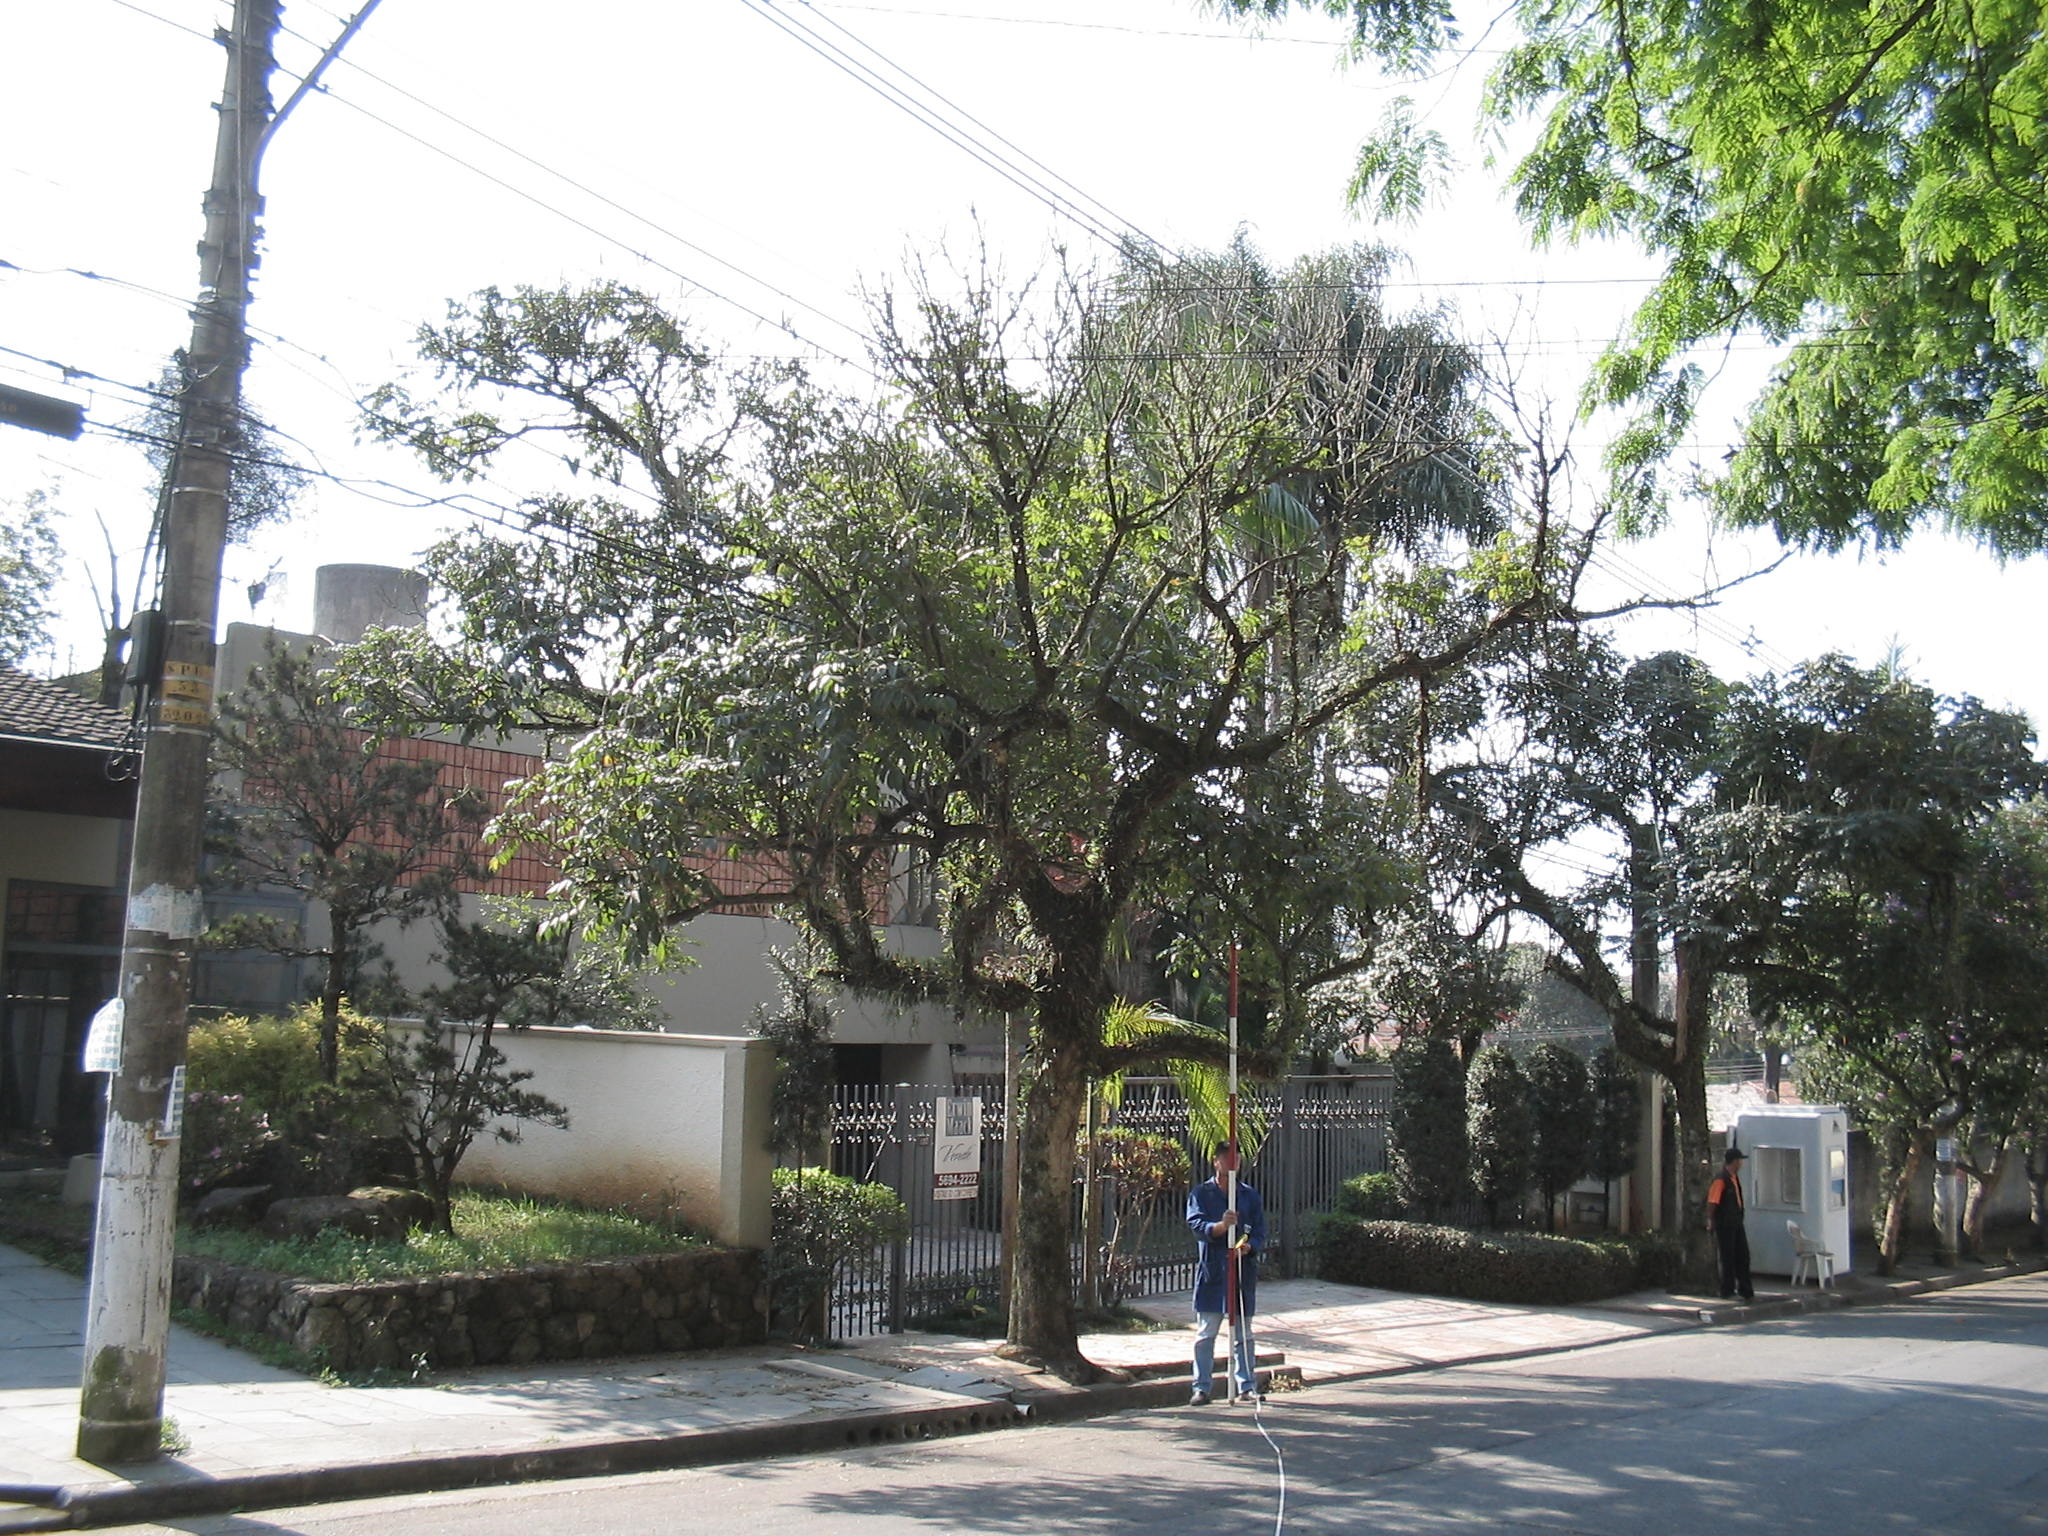crown: (364, 219, 1772, 1004)
stem: (990, 1058, 1143, 1376)
stick: (1198, 942, 1264, 1409)
tree: (360, 218, 1788, 1383), (1429, 736, 1838, 1296), (219, 634, 490, 1089)
